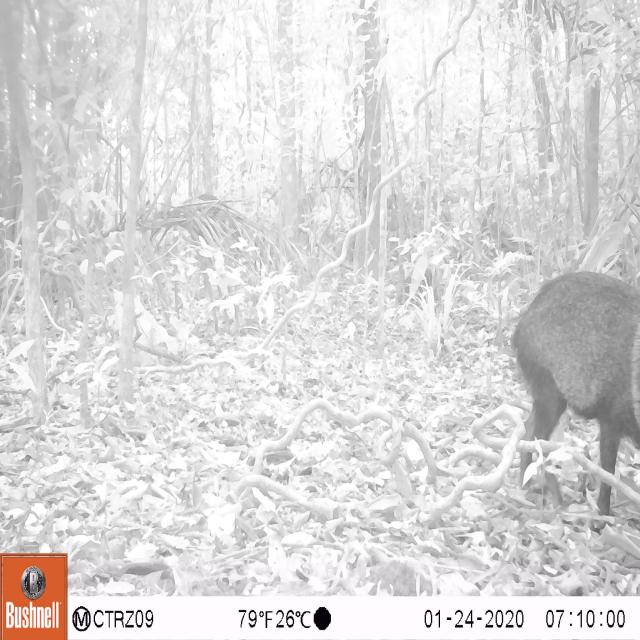Collared Peccary: (507, 260, 640, 526)
